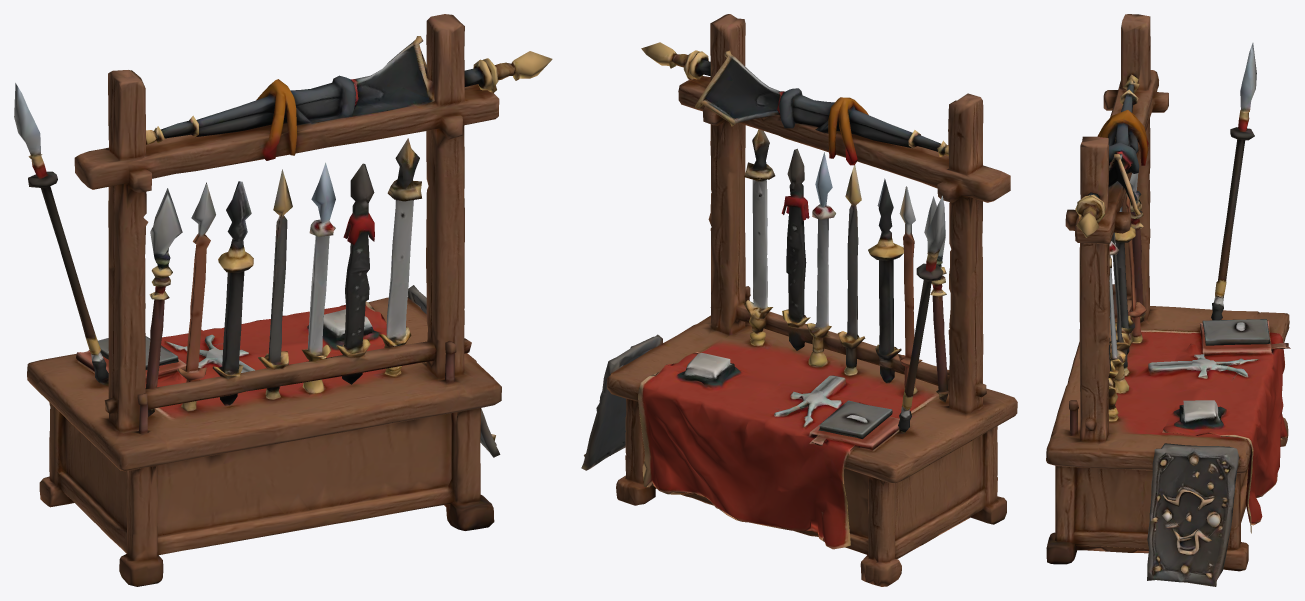
Rendered from stall-weapons.glb.
The picture shows the model from 3 angles, left to right: view 1: azimuth 30°, elevation 25°; view 2: azimuth 150°, elevation 25°; view 3: azimuth 270°, elevation 25°; orthographic projection. The views are drawn at different scales.
Parts seen in each view (by area): view 1: tripo_node_91073ed6-0d2d-4feb-b2aa-5d0afd8b2bd0; view 2: tripo_node_91073ed6-0d2d-4feb-b2aa-5d0afd8b2bd0; view 3: tripo_node_91073ed6-0d2d-4feb-b2aa-5d0afd8b2bd0.
Boxes of the visible parts, box(x1,y1,x2,y2) form: tripo_node_91073ed6-0d2d-4feb-b2aa-5d0afd8b2bd0: box(14, 14, 552, 586); tripo_node_91073ed6-0d2d-4feb-b2aa-5d0afd8b2bd0: box(581, 14, 1017, 586); tripo_node_91073ed6-0d2d-4feb-b2aa-5d0afd8b2bd0: box(1046, 14, 1290, 586).
Bounding box in the file's own units: 0.9443 × 1 × 0.534.
Materials: 1 (1 with a texture image).
